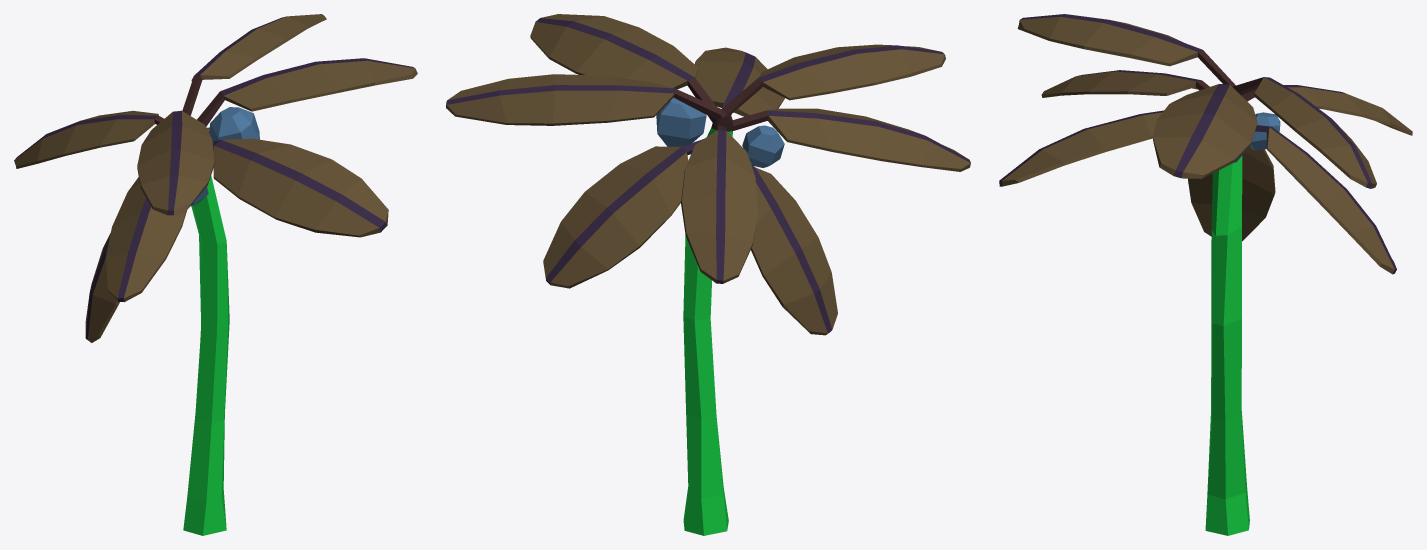
Rendered from CoconutPalm01.fbx.
3 renders of one model, left to right at view 1: azimuth 30°, elevation 25°; view 2: azimuth 150°, elevation 25°; view 3: azimuth 270°, elevation 25°, orthographic. The views are drawn at different scales.
Visible parts, largest first — view 1: PalmTopMidPoly01; view 2: PalmTopMidPoly01; view 3: PalmTopMidPoly01.
Part boxes in pixels (x1=…): PalmTopMidPoly01: x1=14, y1=14, x2=417, y2=535; PalmTopMidPoly01: x1=446, y1=14, x2=970, y2=535; PalmTopMidPoly01: x1=999, y1=14, x2=1412, y2=535.
Size of the model in its own units: 122 by 143 by 116.
